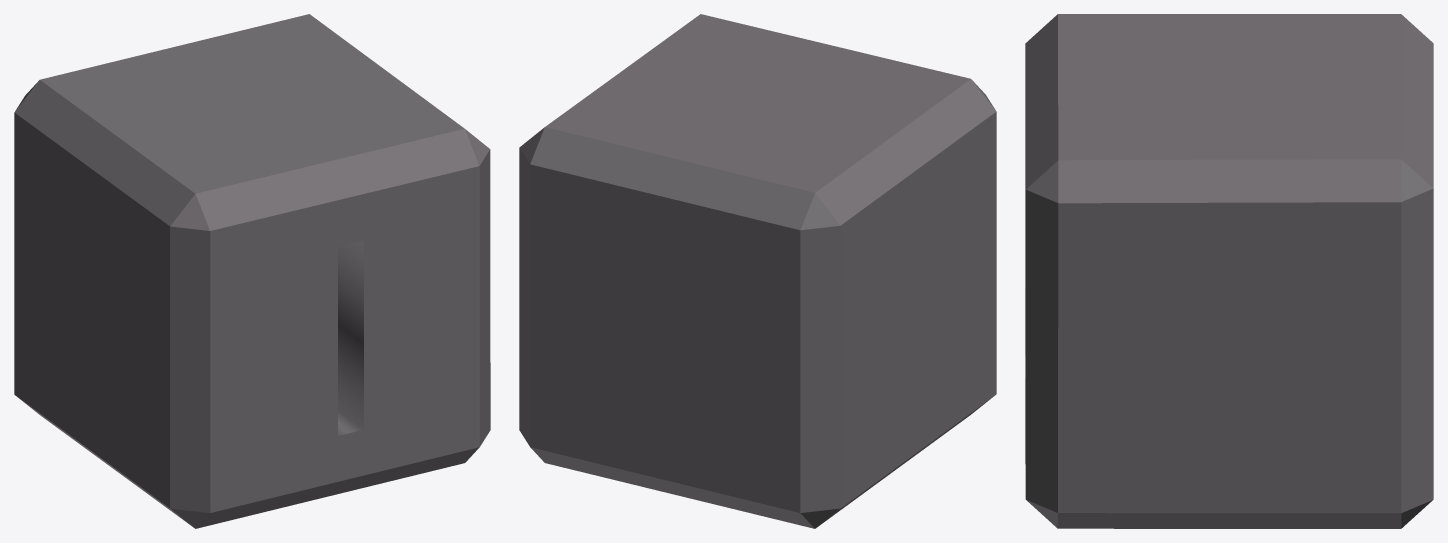
The model's file is Button1.obj.
3 views of the same model, side by side, from view 1: azimuth 30°, elevation 25°; view 2: azimuth 150°, elevation 25°; view 3: azimuth 270°, elevation 25° (orthographic). The views are drawn at different scales.
Visible parts, largest first — view 1: Cube; view 2: Cube; view 3: Cube.
Boxes of the visible parts, x1,y1,x2,y2 form: Cube: (14,14,490,528); Cube: (519,14,996,528); Cube: (1025,14,1433,528).
Size of the model in its own units: 0.156 by 0.156 by 0.156.
1 material, 1 textured.
